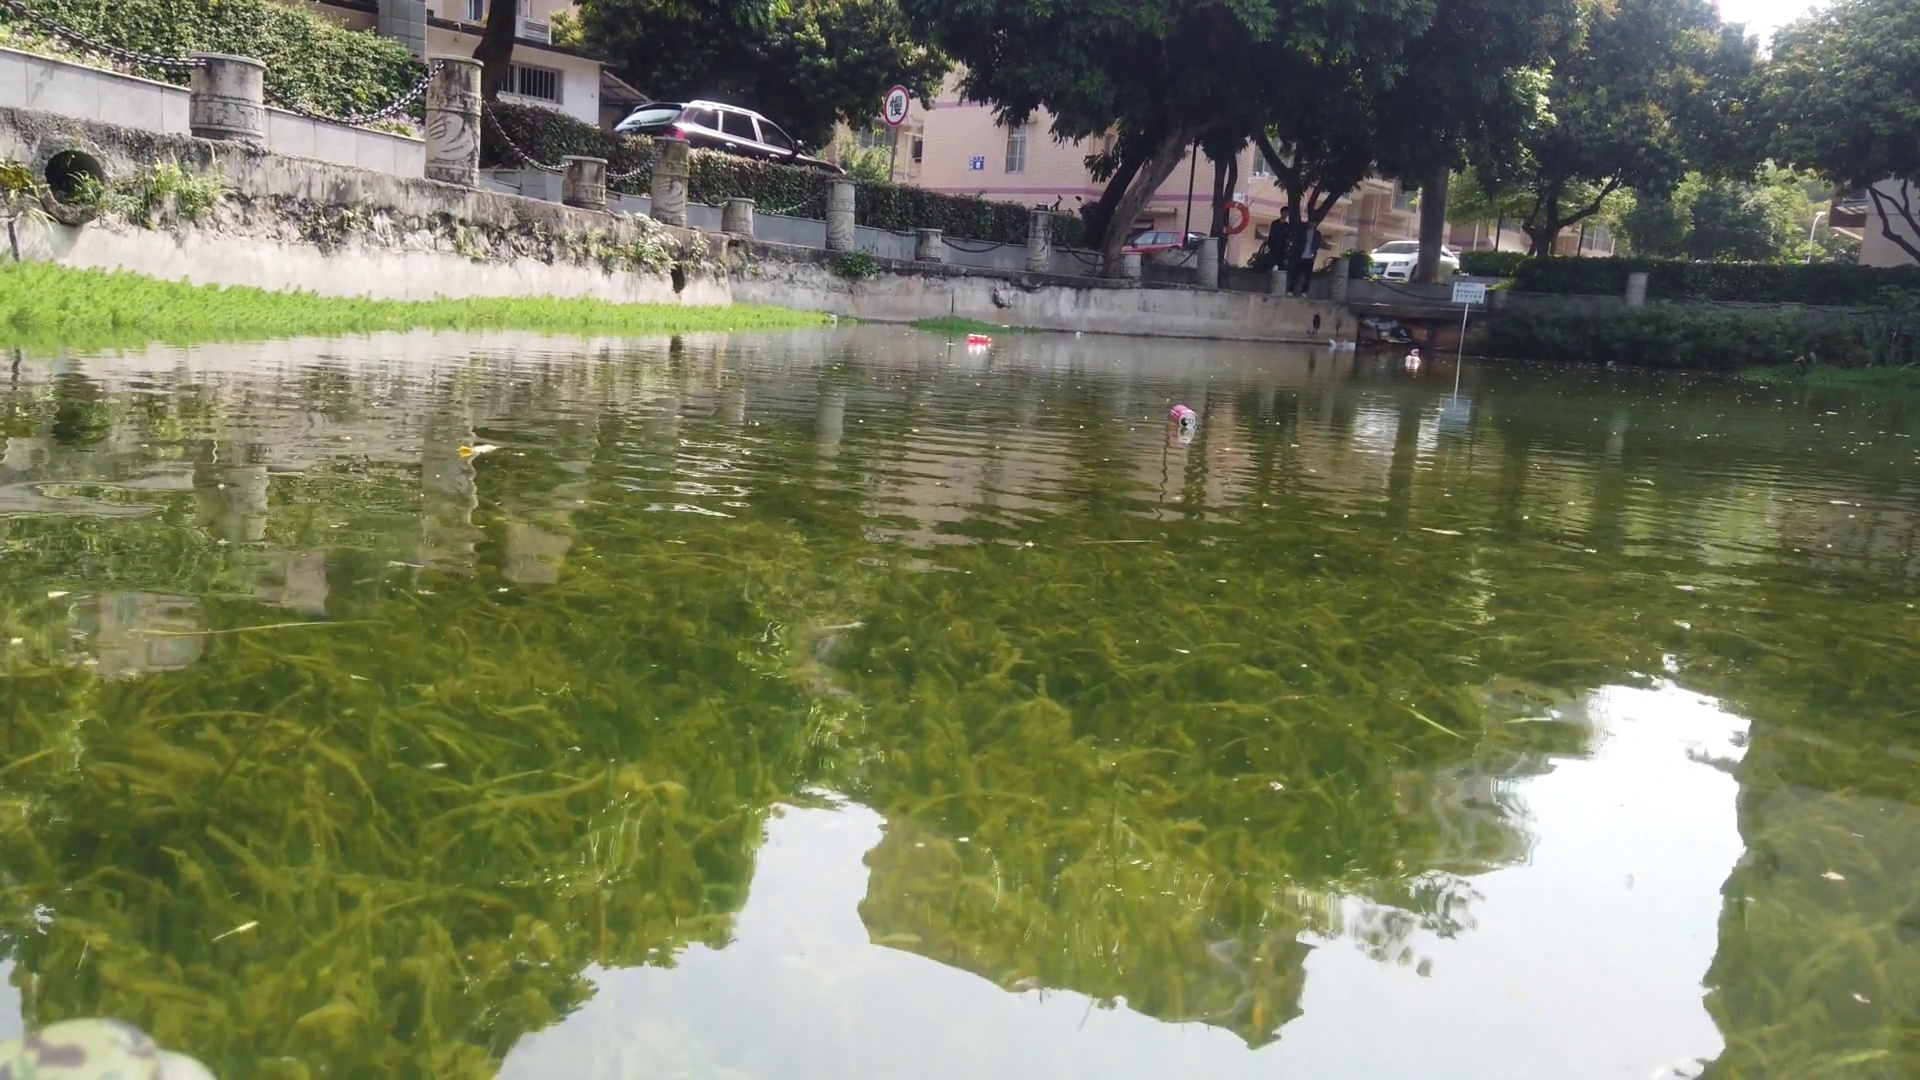bottle: (1163, 401, 1203, 433), (965, 328, 992, 345), (1404, 352, 1420, 364), (1408, 344, 1420, 356)
carton: (1344, 340, 1360, 352)
plastic: (1327, 334, 1349, 352)
